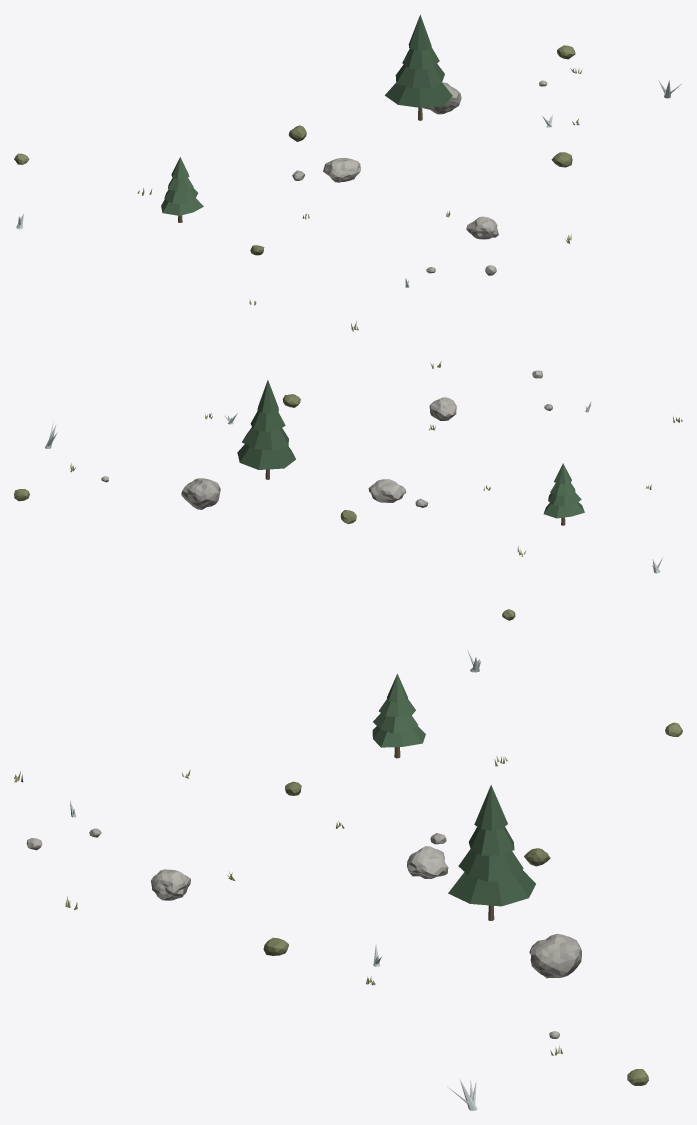
Rendered from coast_land_scatter_c11_24.glb.
The picture shows the model from 3 angles, top to bottom: view 1: azimuth 30°, elevation 25°; view 2: azimuth 150°, elevation 25°; view 3: azimuth 270°, elevation 25°; orthographic projection. The views are drawn at different scales.
Visible parts, largest first — view 1: coast_land_scatter_c11_24; view 2: coast_land_scatter_c11_24; view 3: coast_land_scatter_c11_24.
Part boxes in pixels (x1,y1,x2,y2): coast_land_scatter_c11_24: [14, 14, 681, 331]; coast_land_scatter_c11_24: [14, 361, 682, 620]; coast_land_scatter_c11_24: [14, 649, 682, 1110].
Size of the model in its own units: 89.01 by 17.71 by 61.5.
